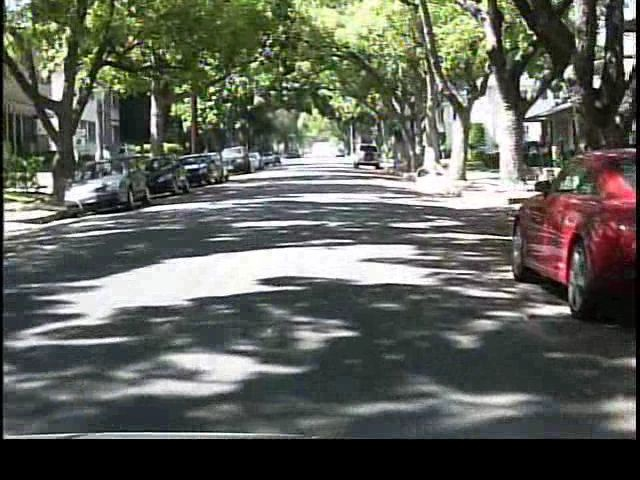person: (91, 144, 114, 195)
